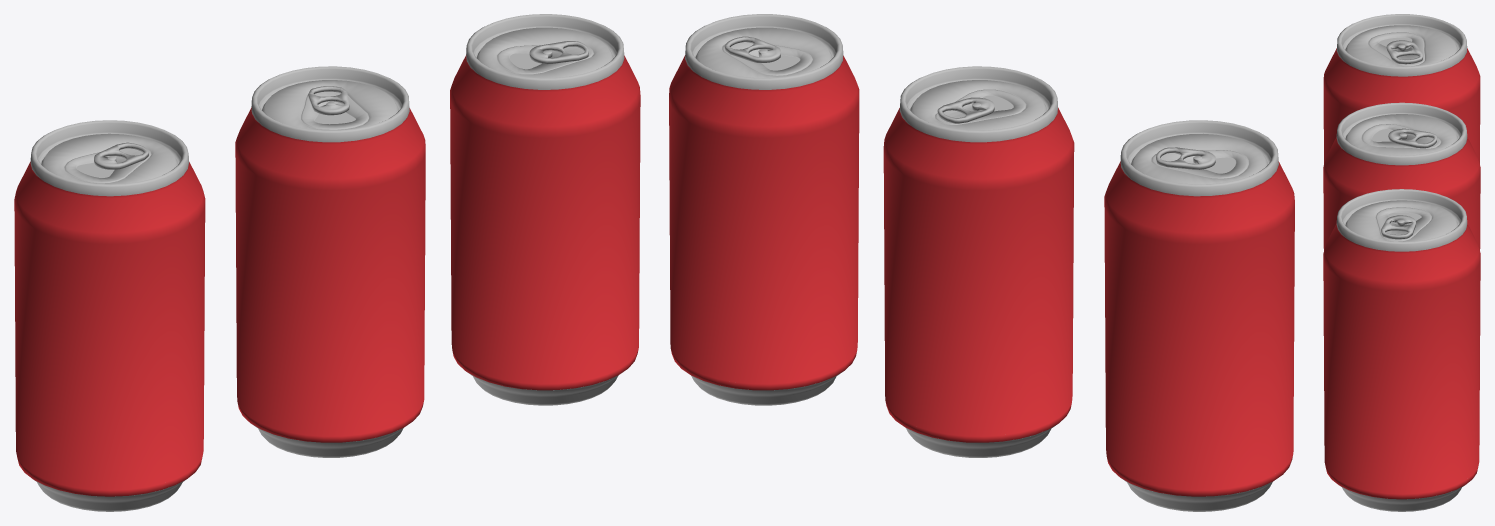
Rendered from garrafav1.gltf.
The picture shows the model from 3 angles, left to right: view 1: azimuth 30°, elevation 25°; view 2: azimuth 150°, elevation 25°; view 3: azimuth 270°, elevation 25°; orthographic projection. The views are drawn at different scales.
Parts seen in each view (by area): view 1: Can Soda Label.002, Can Soda Label.001, Can Soda Label, Can Soda 1, Can Soda 3, Can Soda 2; view 2: Can Soda Label.002, Can Soda Label, Can Soda Label.001, Can Soda 1, Can Soda 3, Can Soda 2; view 3: Can Soda Label.001, Can Soda 2, Can Soda Label.002, Can Soda Label, Can Soda 1, Can Soda 3.
Boxes of the visible parts, x1,y1,x2,y2 form: Can Soda Label.002: (14, 161, 205, 496); Can Soda Label.001: (450, 55, 640, 390); Can Soda Label: (235, 107, 425, 442); Can Soda 1: (251, 66, 409, 457); Can Soda 3: (30, 120, 189, 511); Can Soda 2: (466, 14, 624, 405); Can Soda Label.002: (1104, 161, 1294, 496); Can Soda Label: (883, 107, 1074, 442); Can Soda Label.001: (669, 55, 859, 390); Can Soda 1: (899, 66, 1057, 457); Can Soda 3: (1120, 120, 1278, 511); Can Soda 2: (685, 14, 843, 405); Can Soda Label.001: (1323, 223, 1480, 499); Can Soda 2: (1336, 189, 1467, 511); Can Soda Label.002: (1323, 48, 1480, 163); Can Soda Label: (1323, 137, 1480, 249); Can Soda 1: (1336, 102, 1467, 165); Can Soda 3: (1336, 14, 1467, 76).
Size of the model in its own units: 5.63 by 2.96 by 1.55.
